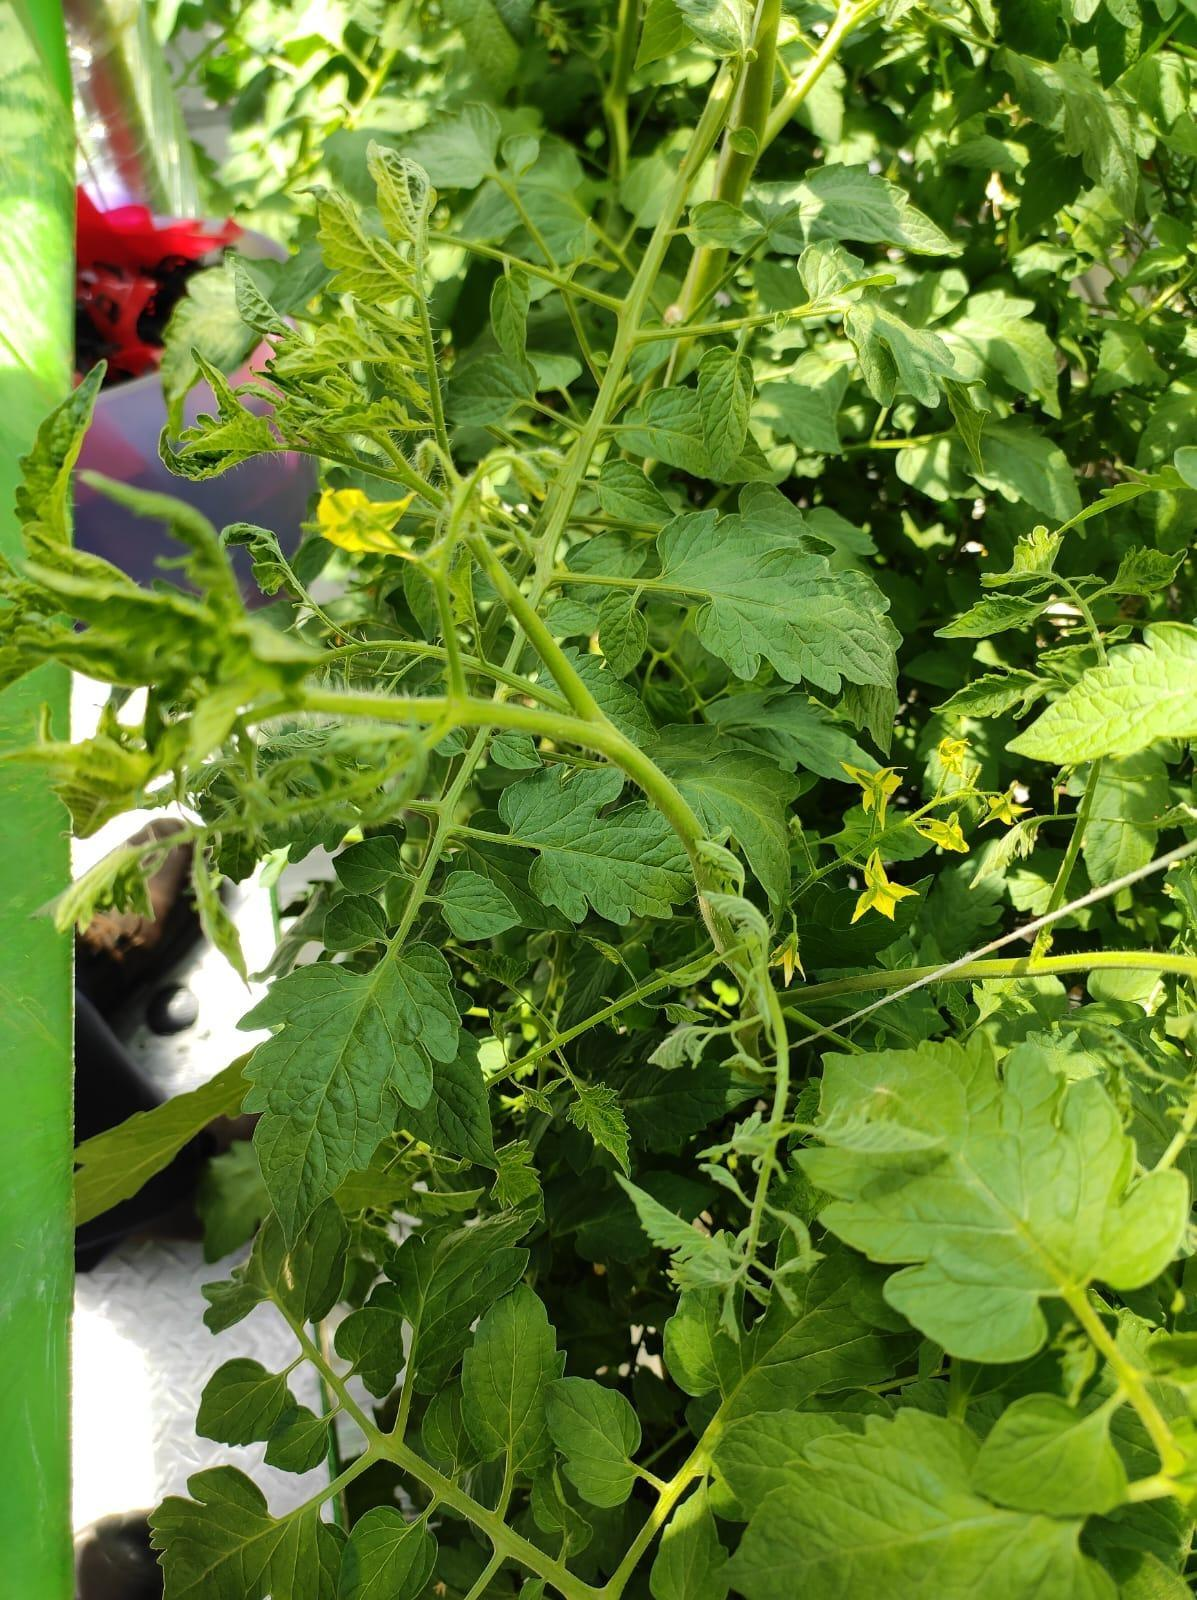Rugose leaf: (316, 187, 416, 303)
